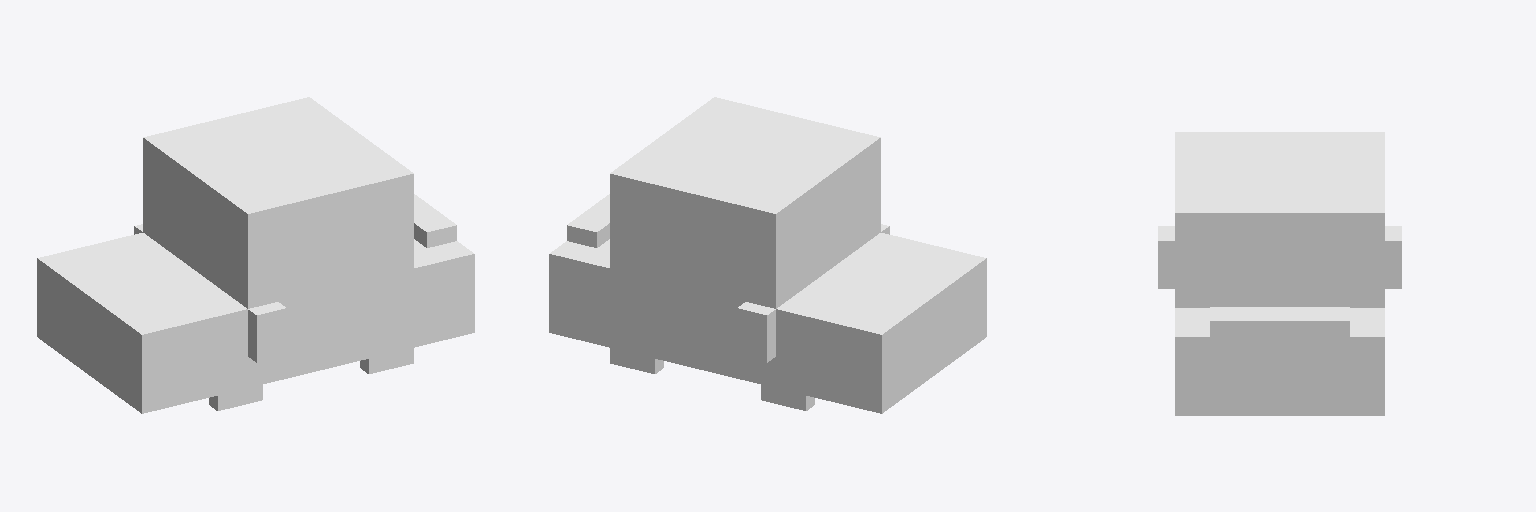
The model's file is xecon.obj.
3 views of the same model, side by side, from view 1: azimuth 30°, elevation 25°; view 2: azimuth 150°, elevation 25°; view 3: azimuth 270°, elevation 25° (orthographic).
Visible parts, largest first — view 1: object 1; view 2: object 1; view 3: object 1.
Boxes of the visible parts, box(x1,y1,x2,y2) form: object 1: box(37, 97, 474, 413); object 1: box(549, 97, 986, 413); object 1: box(1158, 132, 1401, 415).
Size of the model in its own units: 2.2 by 1.2 by 1.4.